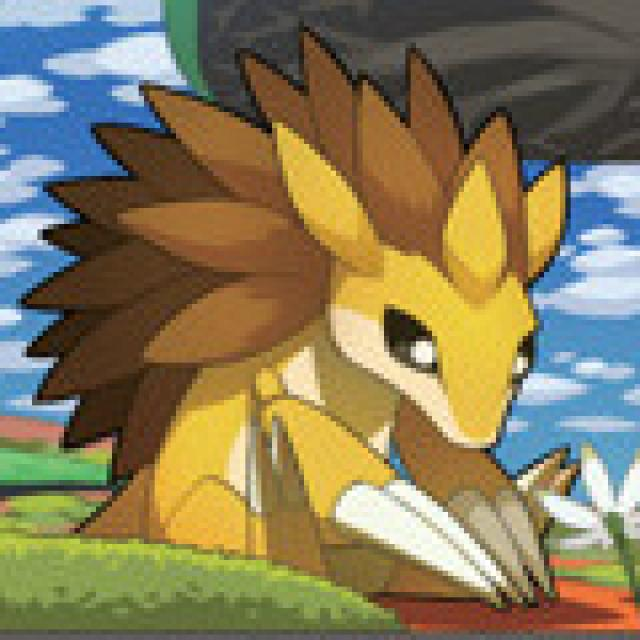Sandslash: (8, 42, 583, 622)
